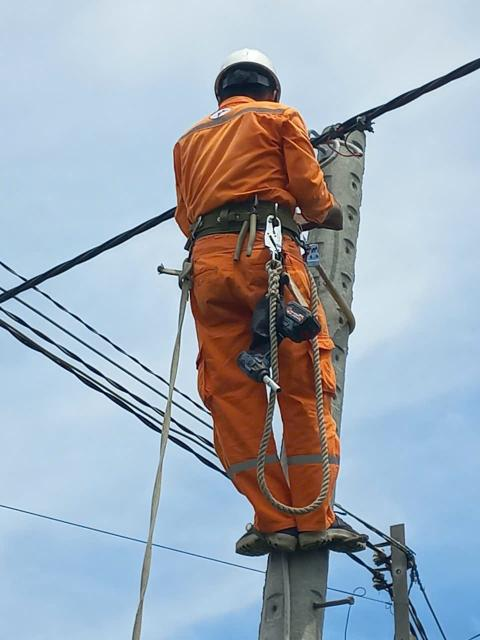gloves: (306, 198, 352, 236)
harness: (151, 196, 306, 247)
helmet: (211, 36, 298, 110)
shoes: (233, 508, 305, 562), (292, 514, 376, 560)
